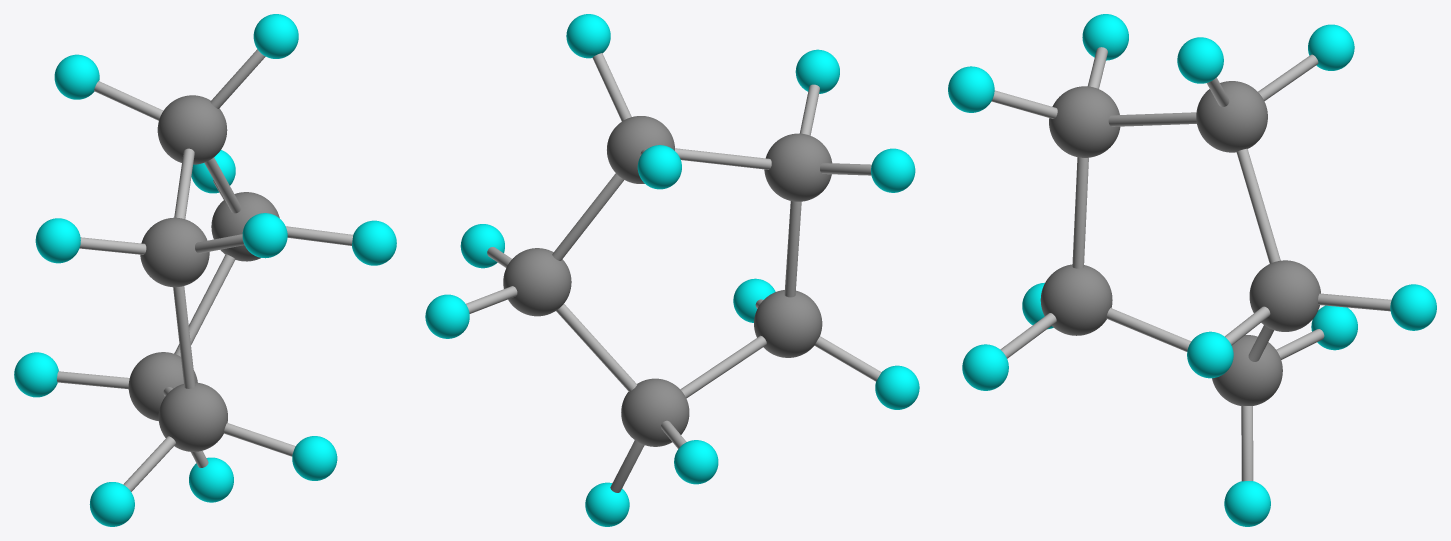
The model's file is cyclopentane.glb.
The picture shows the model from 3 angles, left to right: view 1: azimuth 30°, elevation 25°; view 2: azimuth 150°, elevation 25°; view 3: azimuth 270°, elevation 25°; orthographic projection. The views are drawn at different scales.
Parts seen in each view (by area): view 1: CMAtom_3, CMAtom_1, CMAtom_2, CMAtom_4, CMAtom_0, CMAtom_10, CMAtom_9, CMAtom_7, CMAtom_5, CMAtom_12, CMAtom_11, CMAtom_14 (+15 smaller); view 2: CMAtom_3, CMAtom_0, CMAtom_2, CMAtom_4, CMAtom_1, CMAtom_8, CMAtom_10, CMAtom_6, CMAtom_14, CMAtom_12, CMAtom_7, CMAtom_13 (+14 smaller); view 3: CMAtom_3, CMAtom_0, CMAtom_2, CMAtom_1, CMAtom_4, CMAtom_7, CMAtom_11, CMAtom_6, CMAtom_5, CMAtom_9, CMAtom_13, CMAtom_8 (+14 smaller).
Part boxes in pixels (bbox=[...]): CMAtom_3: bbox=[158, 382, 227, 451]; CMAtom_1: bbox=[157, 95, 227, 164]; CMAtom_2: bbox=[140, 217, 209, 287]; CMAtom_4: bbox=[128, 352, 197, 421]; CMAtom_0: bbox=[211, 192, 279, 261]; CMAtom_10: bbox=[35, 218, 80, 263]; CMAtom_9: bbox=[242, 213, 287, 258]; CMAtom_7: bbox=[253, 14, 298, 58]; CMAtom_5: bbox=[352, 220, 396, 265]; CMAtom_12: bbox=[89, 482, 134, 526]; CMAtom_11: bbox=[292, 436, 337, 480]; CMAtom_14: bbox=[14, 352, 58, 397]; CMAtom_3: bbox=[754, 290, 822, 357]; CMAtom_0: bbox=[503, 248, 571, 316]; CMAtom_2: bbox=[764, 133, 832, 201]; CMAtom_4: bbox=[621, 378, 689, 446]; CMAtom_1: bbox=[607, 116, 674, 183]; CMAtom_8: bbox=[637, 145, 681, 189]; CMAtom_10: bbox=[871, 148, 915, 192]; CMAtom_6: bbox=[425, 294, 469, 338]; CMAtom_14: bbox=[674, 440, 718, 484]; CMAtom_12: bbox=[875, 365, 919, 409]; CMAtom_7: bbox=[566, 14, 610, 58]; CMAtom_13: bbox=[585, 482, 629, 526]; CMAtom_3: bbox=[1040, 264, 1112, 335]; CMAtom_0: bbox=[1249, 260, 1320, 331]; CMAtom_2: bbox=[1049, 86, 1120, 157]; CMAtom_1: bbox=[1196, 81, 1267, 152]; CMAtom_4: bbox=[1212, 335, 1282, 405]; CMAtom_7: bbox=[1177, 37, 1223, 83]; CMAtom_11: bbox=[962, 344, 1008, 390]; CMAtom_6: bbox=[1390, 284, 1436, 330]; CMAtom_5: bbox=[1187, 331, 1233, 378]; CMAtom_9: bbox=[948, 66, 994, 112]; CMAtom_13: bbox=[1224, 481, 1270, 526]; CMAtom_8: bbox=[1308, 24, 1354, 70].
Bounding box in the file's own units: 4.15 × 4.8 × 4.2.
